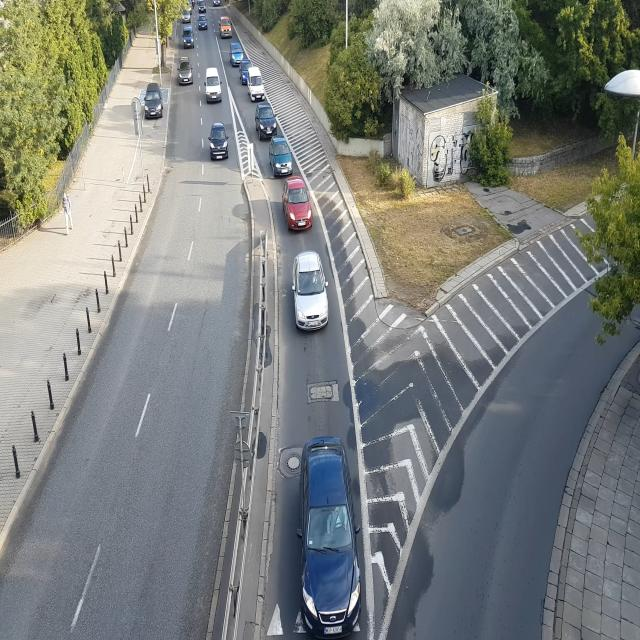car: (298, 423, 365, 640), (293, 252, 332, 337), (283, 178, 313, 232), (271, 136, 295, 177), (254, 104, 276, 141), (210, 124, 230, 162), (143, 87, 165, 119), (202, 77, 223, 104), (230, 40, 243, 65), (249, 85, 268, 102), (182, 31, 198, 49), (238, 66, 254, 82), (220, 19, 233, 37), (181, 3, 192, 23), (179, 70, 193, 84), (200, 1, 210, 15), (197, 18, 208, 30), (213, 0, 223, 12)
